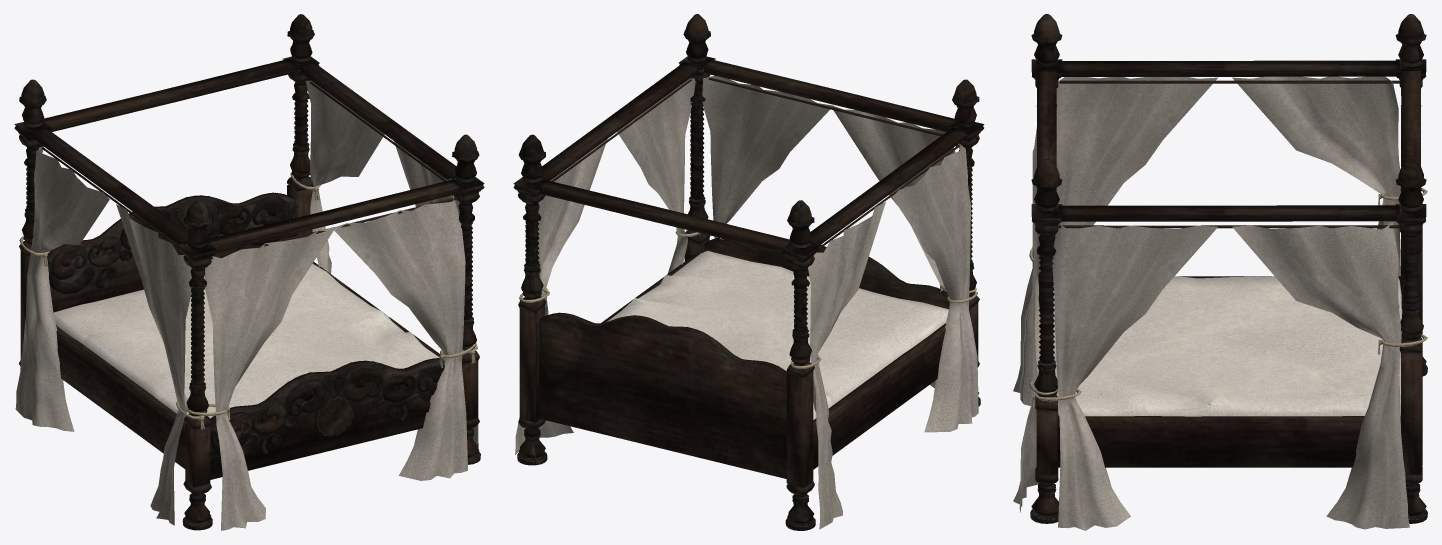
The model's file is bed-8.glb.
3 renders of one model, left to right at view 1: azimuth 30°, elevation 25°; view 2: azimuth 150°, elevation 25°; view 3: azimuth 270°, elevation 25°, orthographic. The views are drawn at different scales.
Parts seen in each view (by area): view 1: 2ndFlr_ParentsBed_Core, Plane.020, 2ndFlr_ParentsBed_Mattress; view 2: 2ndFlr_ParentsBed_Core, Plane.020, 2ndFlr_ParentsBed_Mattress; view 3: Plane.020, 2ndFlr_ParentsBed_Core, 2ndFlr_ParentsBed_Mattress.
Boxes of the visible parts, x1,y1,x2,y2 form: 2ndFlr_ParentsBed_Core: [14, 14, 484, 530]; Plane.020: [15, 78, 478, 530]; 2ndFlr_ParentsBed_Mattress: [53, 263, 439, 418]; 2ndFlr_ParentsBed_Core: [513, 14, 984, 530]; Plane.020: [515, 75, 978, 529]; 2ndFlr_ParentsBed_Mattress: [607, 250, 948, 419]; Plane.020: [1013, 76, 1427, 530]; 2ndFlr_ParentsBed_Core: [1030, 14, 1427, 523]; 2ndFlr_ParentsBed_Mattress: [1053, 276, 1402, 416].
Bounding box in the file's own units: 12.76 × 12.52 × 13.12.
3 materials, 3 textured.
